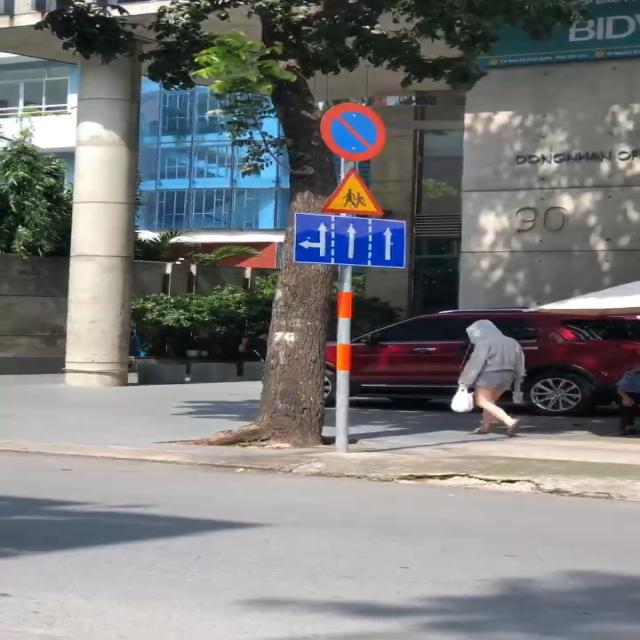Bien bao cam do xe: (305, 102, 394, 161)
Bien bao tre em: (319, 163, 387, 215)
